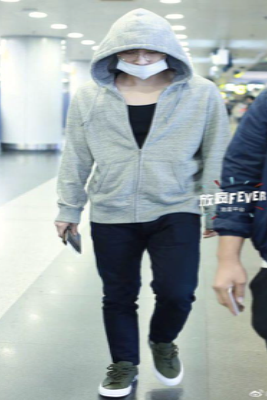mask_weared_incorrect: (115, 47, 168, 80)
